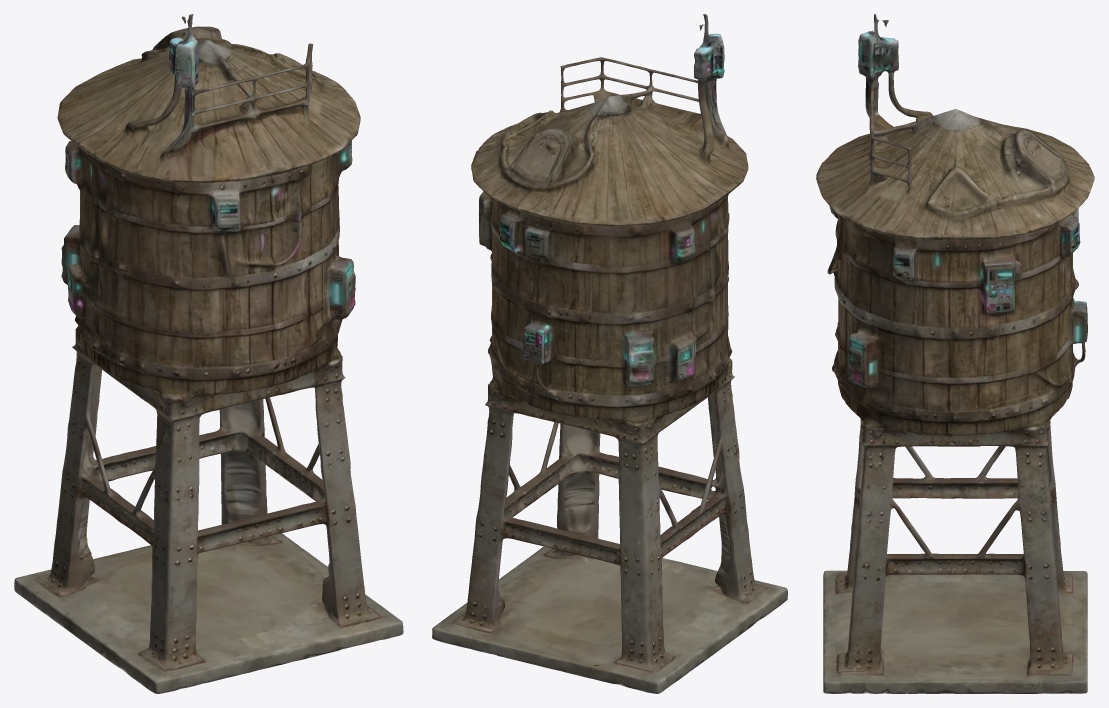
The model's file is water-tower.glb.
The picture shows the model from 3 angles, left to right: view 1: azimuth 30°, elevation 25°; view 2: azimuth 150°, elevation 25°; view 3: azimuth 270°, elevation 25°; orthographic projection. The views are drawn at different scales.
Parts seen in each view (by area): view 1: input; view 2: input; view 3: input.
Part boxes in pixels (box(x1,y1,x2,y2)): input: box(14, 14, 403, 693); input: box(432, 14, 787, 693); input: box(816, 14, 1094, 693).
Bounding box in the file's own units: 1.9 × 4.5 × 1.91.
1 material, 1 textured.
